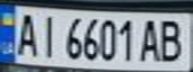0: (100, 16, 118, 62)
1: (115, 16, 139, 62)
6: (60, 14, 84, 61), (81, 15, 103, 62)
A: (12, 9, 42, 57), (136, 16, 163, 62)
B: (154, 16, 187, 63)
I: (36, 11, 60, 60)
